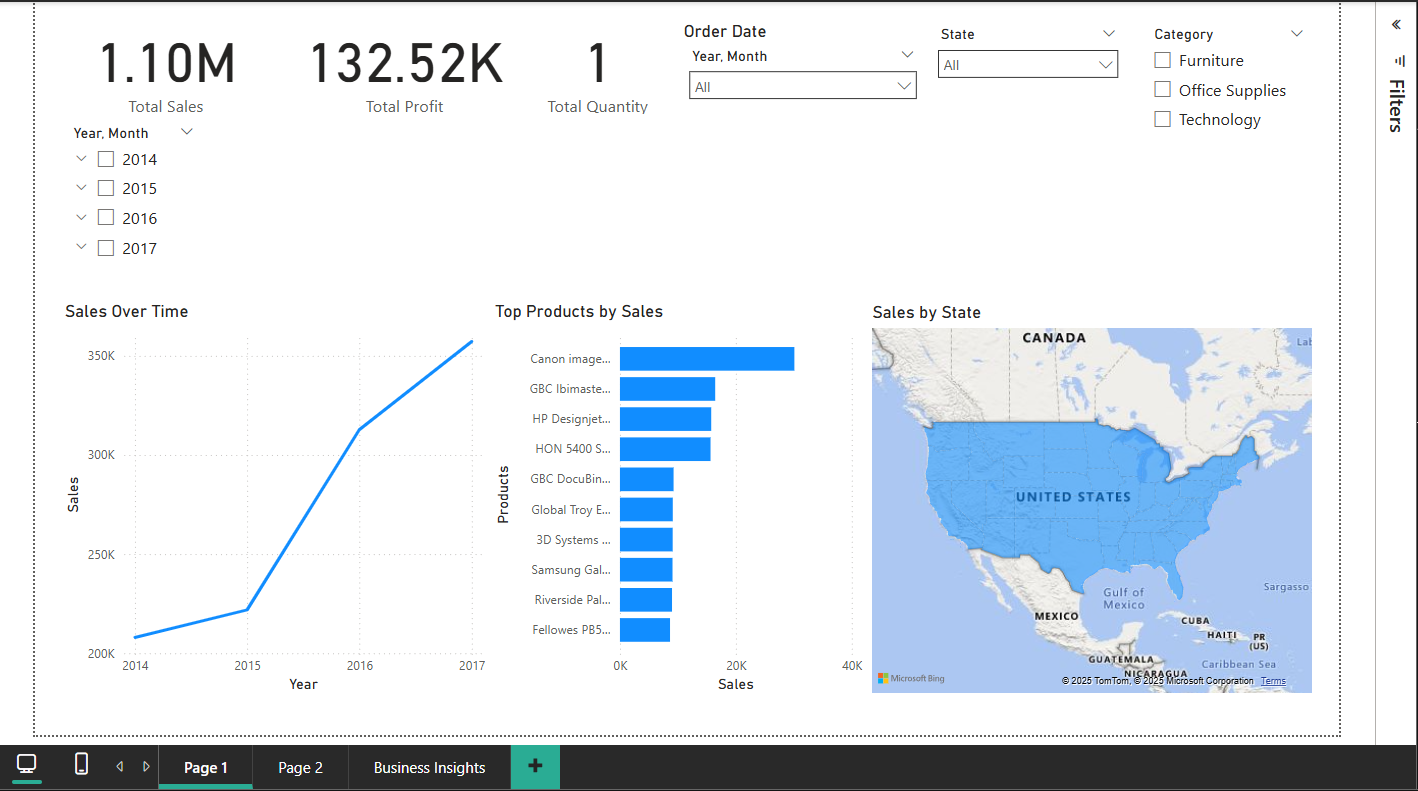

Layout of this report page (visuals, bound fields, positions):
{"tool":"powerbi","page":{"name":"Page 1","canvas":[1280,720],"ordinal":0},"visuals":[{"type":"card","fields":{"Values":["Sum(Sample - Superstore.Sales)"]},"box":[11.3,12.7,235.2,102.8],"z":0},{"type":"card","fields":{"Values":["Sum(Sample - Superstore.Profit)"]},"box":[235.2,12.7,254.9,102.8],"z":1000},{"type":"card","fields":{"Values":["Min(Sample - Superstore.Quantity)"]},"box":[471.8,12.7,160.6,102.8],"z":2000},{"type":"lineChart","title":"Sales Over Time","fields":{"Category":["Sample - Superstore.Order Date.Variation.Date Hierarchy.Year","Sample - Superstore.Order Date.Variation.Date Hierarchy.Month"],"Y":["Sum(Sample - Superstore.Sales)"]},"box":[23.9,293,422.5,390.1],"z":3000},{"type":"slicer","fields":{"Values":["Sample - Superstore.Order Date.Variation.Date Hierarchy.Year","Sample - Superstore.Order Date.Variation.Date Hierarchy.Month"]},"box":[23.9,115.5,143.7,146.5],"z":4000},{"type":"clusteredBarChart","title":"Top Products by Sales","fields":{"Category":["Sample - Superstore.Product Name"],"Y":["Sum(Sample - Superstore.Sales)"]},"box":[446.5,293,370.4,390.1],"z":5000},{"type":"filledMap","title":"Sales by State","fields":{"Category":["Sample - Superstore.State"]},"box":[816.9,294.4,440.8,388.7],"z":6000},{"type":"slicer","title":"Order Date","fields":{"Values":["Sample - Superstore.Order Date.Variation.Date Hierarchy.Year","Sample - Superstore.Order Date.Variation.Date Hierarchy.Month"]},"box":[632.4,18.3,243.7,169],"z":7000},{"type":"slicer","fields":{"Values":["Sample - Superstore.State"]},"box":[876.1,18.3,197.2,169],"z":8000},{"type":"slicer","fields":{"Values":["Sample - Superstore.Category"]},"box":[1085.9,18.3,171.8,149.3],"z":9000},{"type":"textbox","box":[235,116,255,150],"z":9001}]}

Visuals, with their boxes on the page's 1280x720 design canvas (x1, y1, x2, y2). These are canvas units, not pixel positions in the 1418x791 screenshot, which may show the page scaled, cropped or inside an application window:
card - Sum(Sample - Superstore.Sales): bbox=[11, 13, 246, 116]
card - Sum(Sample - Superstore.Profit): bbox=[235, 13, 490, 116]
card - Min(Sample - Superstore.Quantity): bbox=[472, 13, 632, 116]
"Sales Over Time" lineChart: bbox=[24, 293, 446, 683]
slicer - Sample - Superstore.Order Date.Variation.Date Hierarchy.Year x Sample - Superstore.Order Date.Variation.Date Hierarchy.Month: bbox=[24, 116, 168, 262]
"Top Products by Sales" clusteredBarChart: bbox=[446, 293, 817, 683]
"Sales by State" filledMap: bbox=[817, 294, 1258, 683]
"Order Date" slicer: bbox=[632, 18, 876, 187]
slicer - Sample - Superstore.State: bbox=[876, 18, 1073, 187]
slicer - Sample - Superstore.Category: bbox=[1086, 18, 1258, 168]
textbox: bbox=[235, 116, 490, 266]
